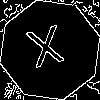X: (25, 25, 69, 77)
